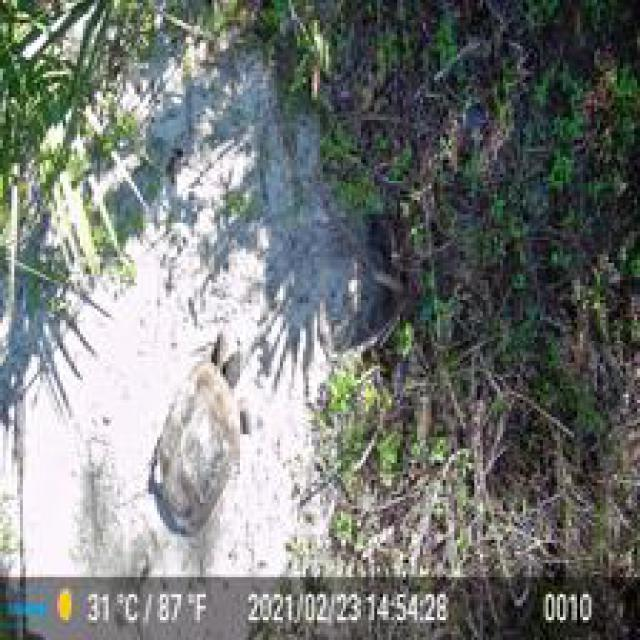tortoise: (143, 331, 254, 540)
